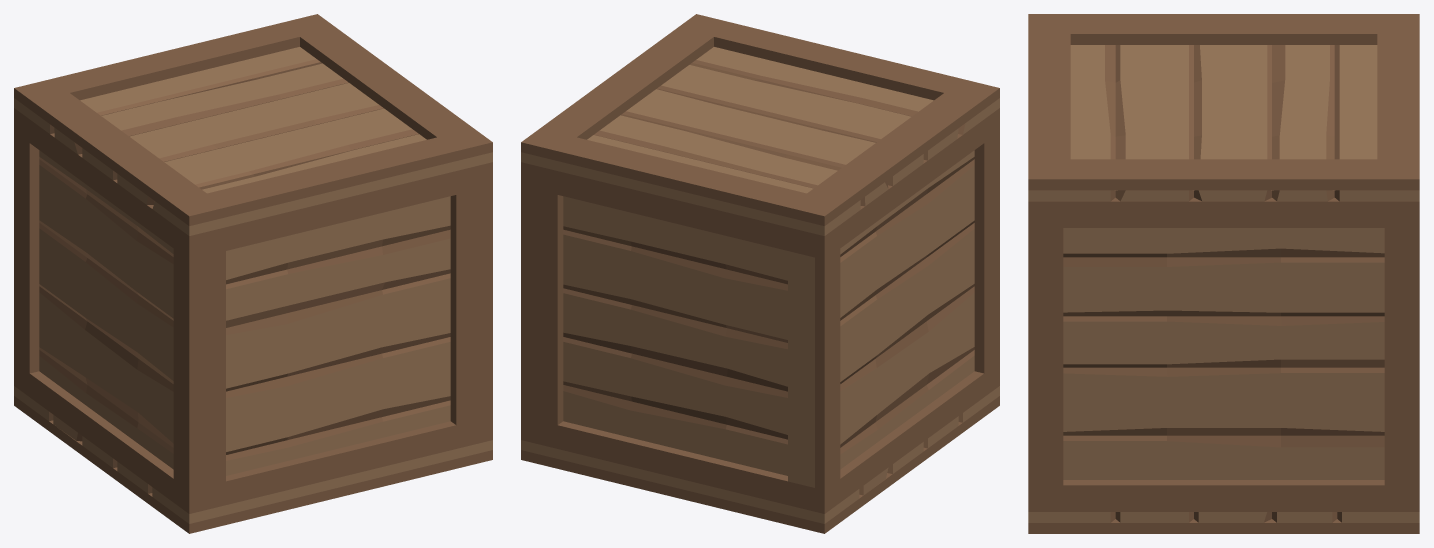
Rendered from SM_Wooden_Box_A.fbx.
3 views of the same model, side by side, from view 1: azimuth 30°, elevation 25°; view 2: azimuth 150°, elevation 25°; view 3: azimuth 270°, elevation 25° (orthographic). The views are drawn at different scales.
Visible parts, largest first — view 1: SM_Wooden_Box_A, SM_Wooden_Box_A_Lid; view 2: SM_Wooden_Box_A, SM_Wooden_Box_A_Lid; view 3: SM_Wooden_Box_A, SM_Wooden_Box_A_Lid.
Part boxes in pixels (bbox=[...]): SM_Wooden_Box_A: bbox=[14, 108, 492, 533]; SM_Wooden_Box_A_Lid: bbox=[14, 14, 492, 235]; SM_Wooden_Box_A: bbox=[521, 108, 999, 533]; SM_Wooden_Box_A_Lid: bbox=[521, 14, 999, 235]; SM_Wooden_Box_A: bbox=[1028, 197, 1419, 533]; SM_Wooden_Box_A_Lid: bbox=[1028, 14, 1419, 201].
Size of the model in its own units: 100 by 100 by 100.
